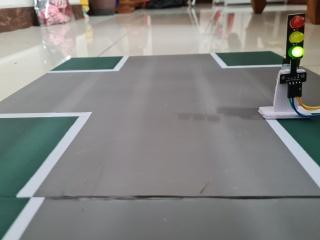green: (281, 12, 311, 76)
